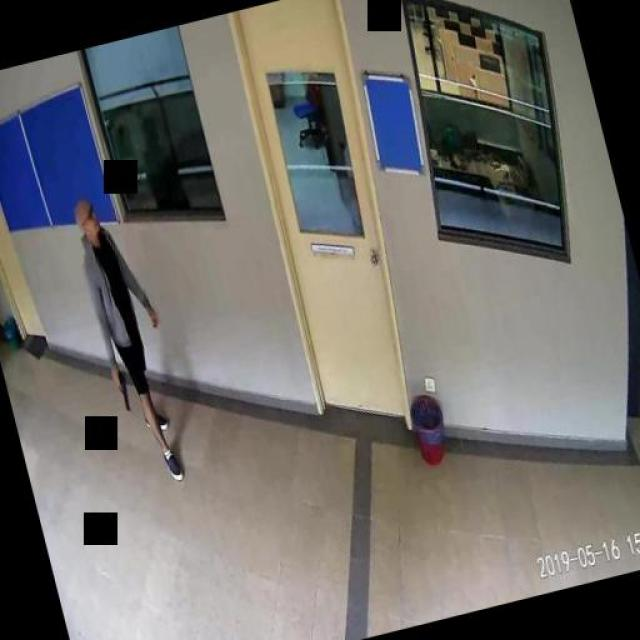gun: (110, 368, 132, 412)
